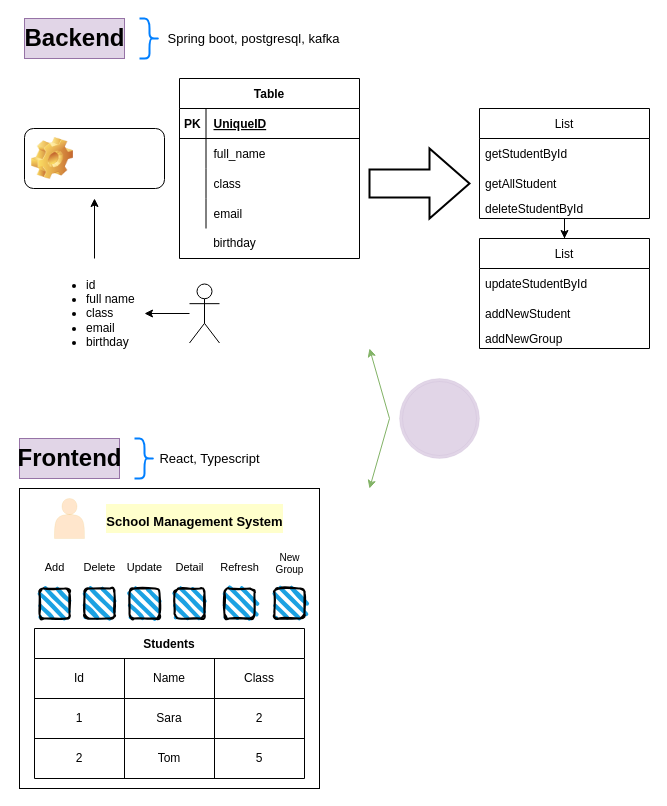
The diagram is 667 pixels wide and 806 high, and some of its shapes have lost their labels. Each missing label, with the centre of its shape:
"Database" belongs at (x=94, y=158).
"REST API" belongs at (x=439, y=418).
"Student" belongs at (x=204, y=313).
